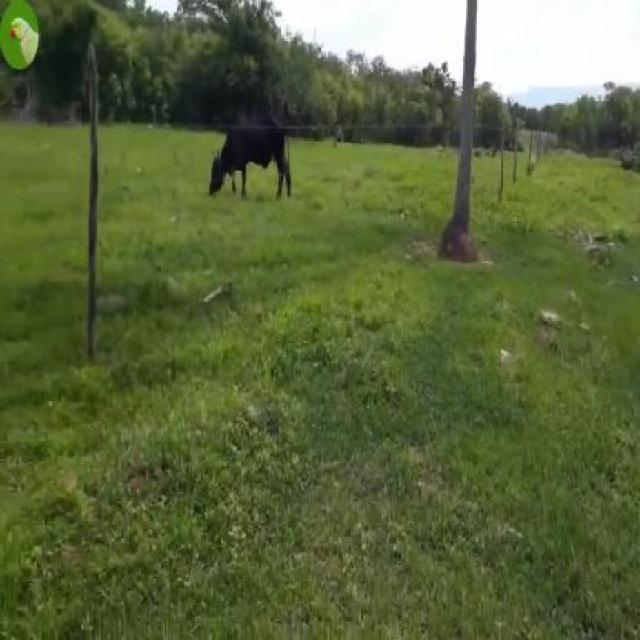Cow: (208, 118, 290, 204)
